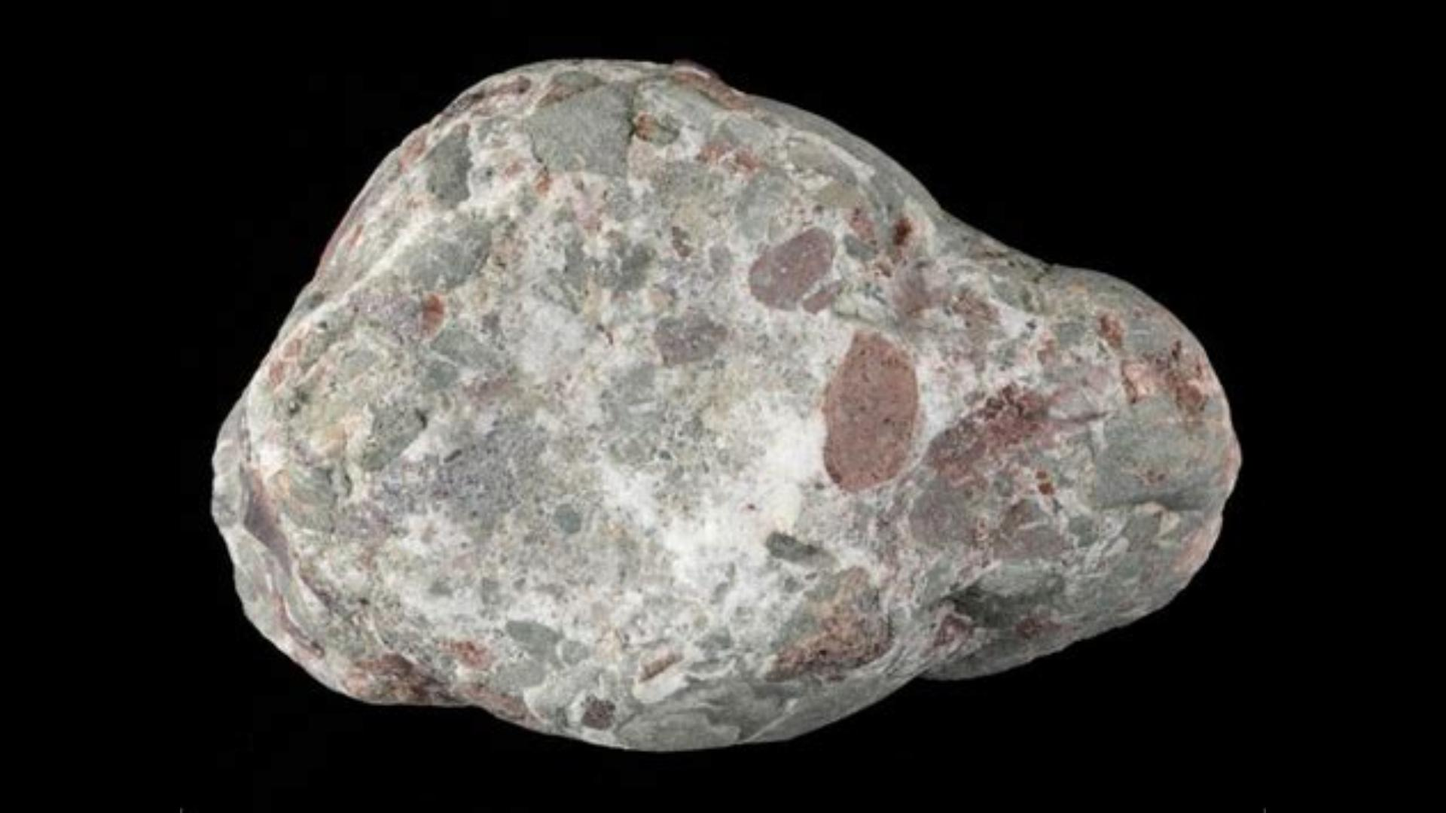rock: (214, 62, 1236, 747)
